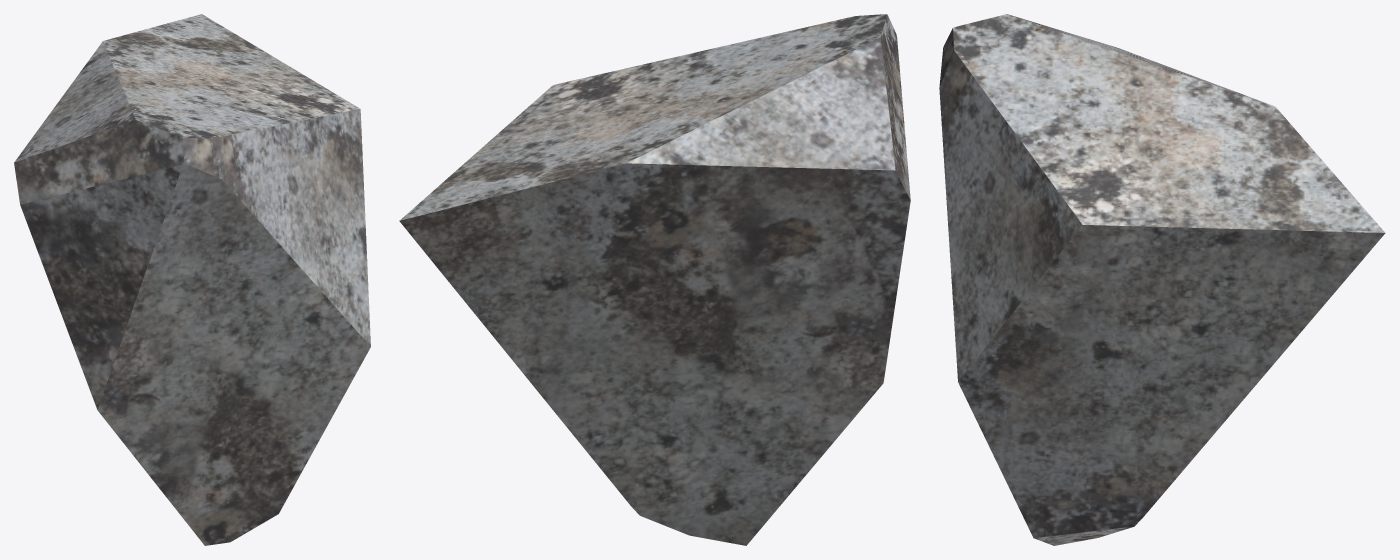
Rendered from Asteroid_Large_001_02_002_03_015.fbx.
The picture shows the model from 3 angles, left to right: view 1: azimuth 30°, elevation 25°; view 2: azimuth 150°, elevation 25°; view 3: azimuth 270°, elevation 25°; orthographic projection. The views are drawn at different scales.
Parts seen in each view (by area): view 1: Asteroid_Large_001_02_002_03_015; view 2: Asteroid_Large_001_02_002_03_015; view 3: Asteroid_Large_001_02_002_03_015.
Boxes of the visible parts, left/top/right/bottom form: Asteroid_Large_001_02_002_03_015: left=14, top=14, right=370, bottom=545; Asteroid_Large_001_02_002_03_015: left=399, top=14, right=910, bottom=545; Asteroid_Large_001_02_002_03_015: left=939, top=14, right=1385, bottom=545.
Size of the model in its own units: 8.98 by 12.07 by 10.28.
